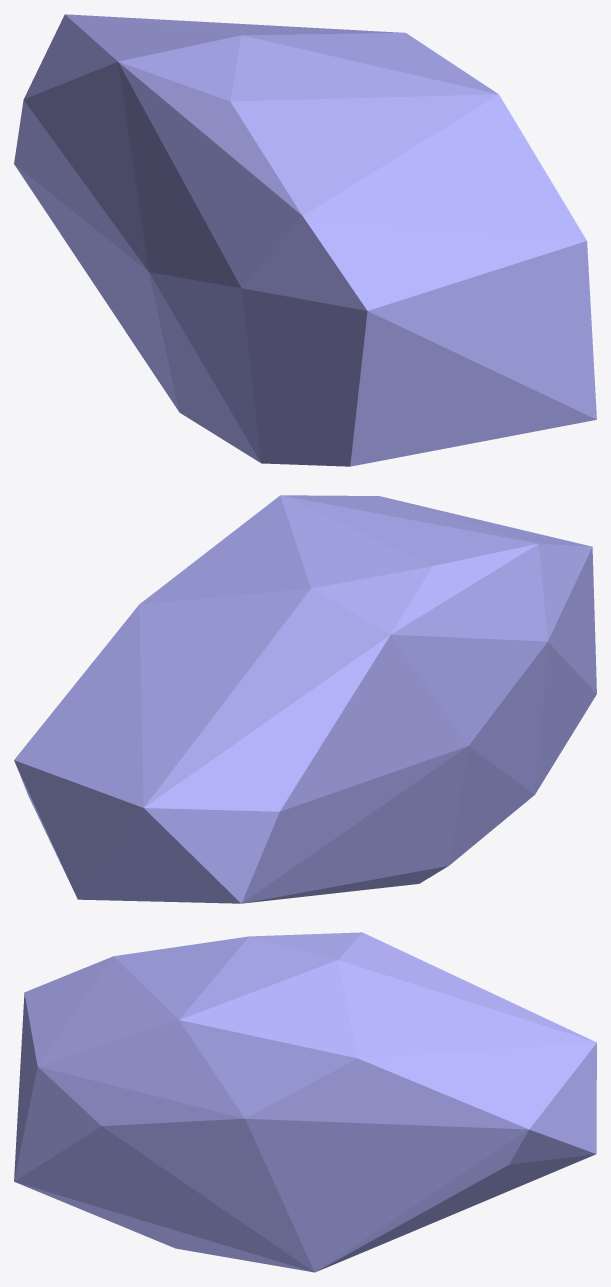
The model's file is dvkr_robot_L2_respondable_TOOL1_coll_1.dae.
3 renders of one model, top to bottom at view 1: azimuth 30°, elevation 25°; view 2: azimuth 150°, elevation 25°; view 3: azimuth 270°, elevation 25°, orthographic. The views are drawn at different scales.
Visible parts, largest first — view 1: Node_0000023514CD8050; view 2: Node_0000023514CD8050; view 3: Node_0000023514CD8050.
Boxes of the visible parts, x1=… form: Node_0000023514CD8050: x1=14, y1=14, x2=596, y2=466; Node_0000023514CD8050: x1=14, y1=495, x2=596, y2=903; Node_0000023514CD8050: x1=14, y1=932, x2=596, y2=1272.
Bounding box in the file's own units: 0.00633 × 0.00636 × 0.0135.
